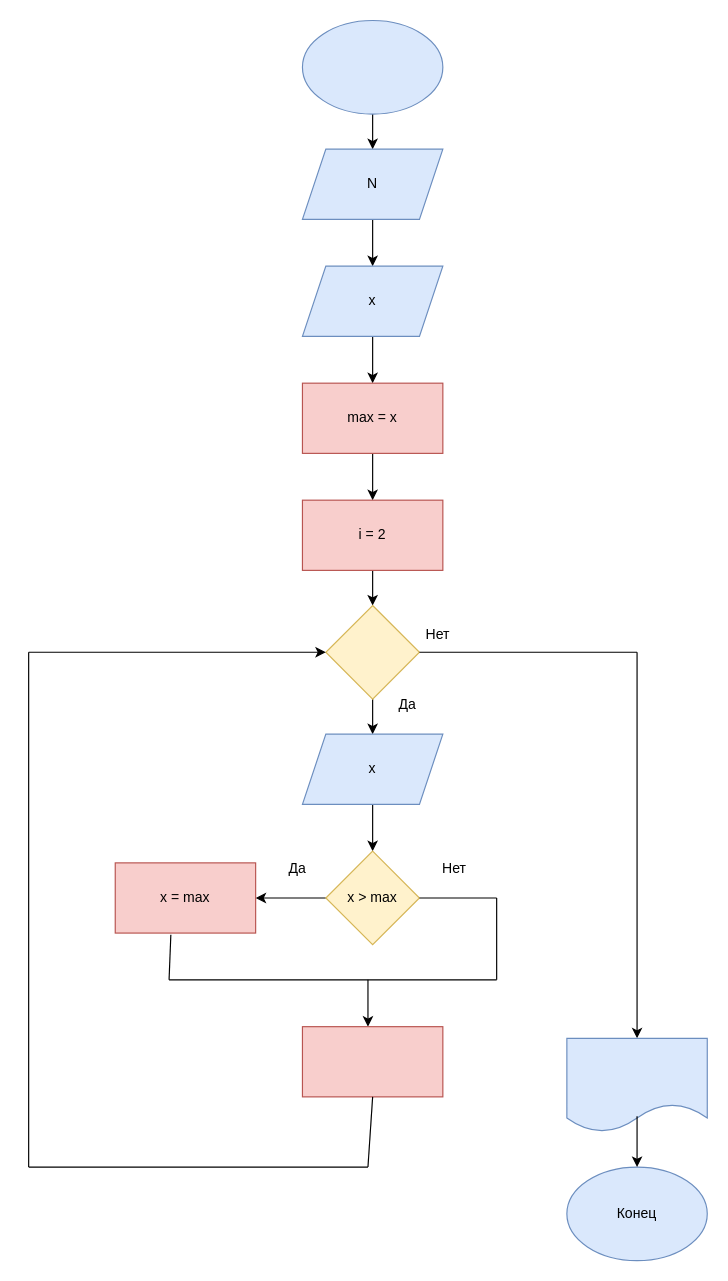
This 728x1281 diagram has some shape labels left out. The centre of each missing label's shape, as x and y in pixels:
"i <= N" goes at point (372, 651).
"i = i + 1" goes at point (372, 1061).
"max" goes at point (636, 1084).
"Начало" goes at point (372, 66).
